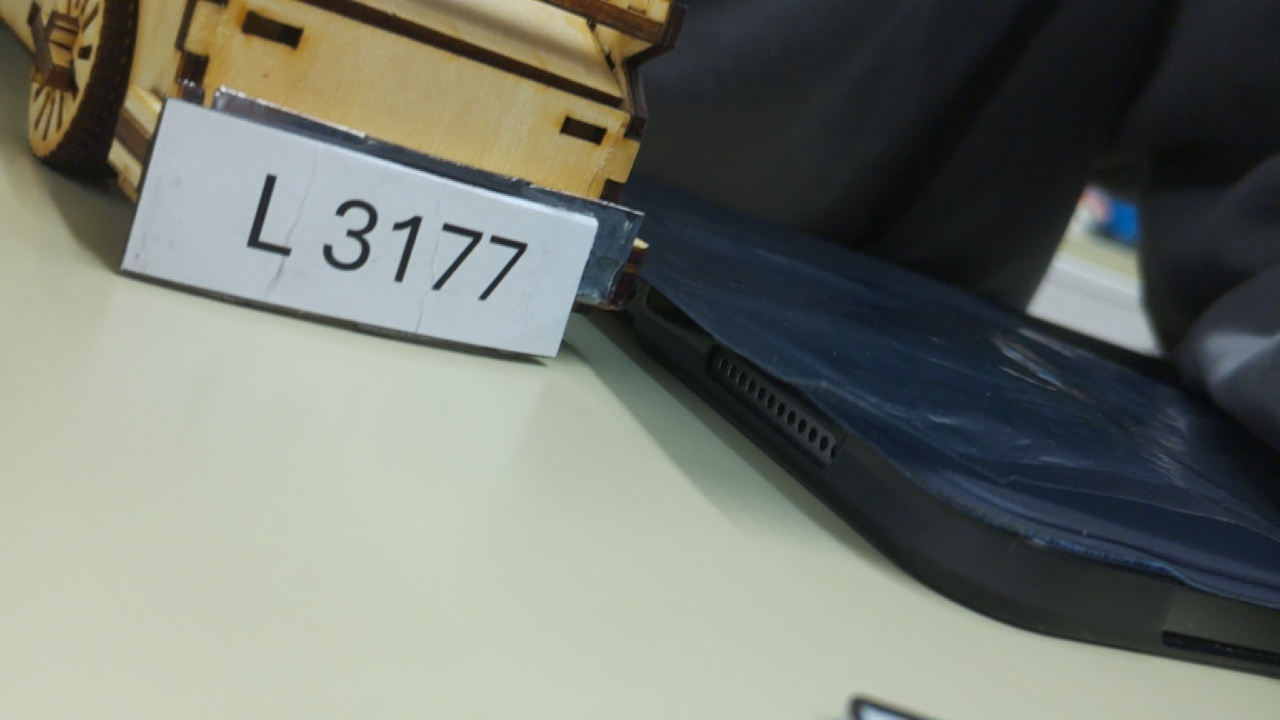license_plate: (105, 82, 605, 366)
